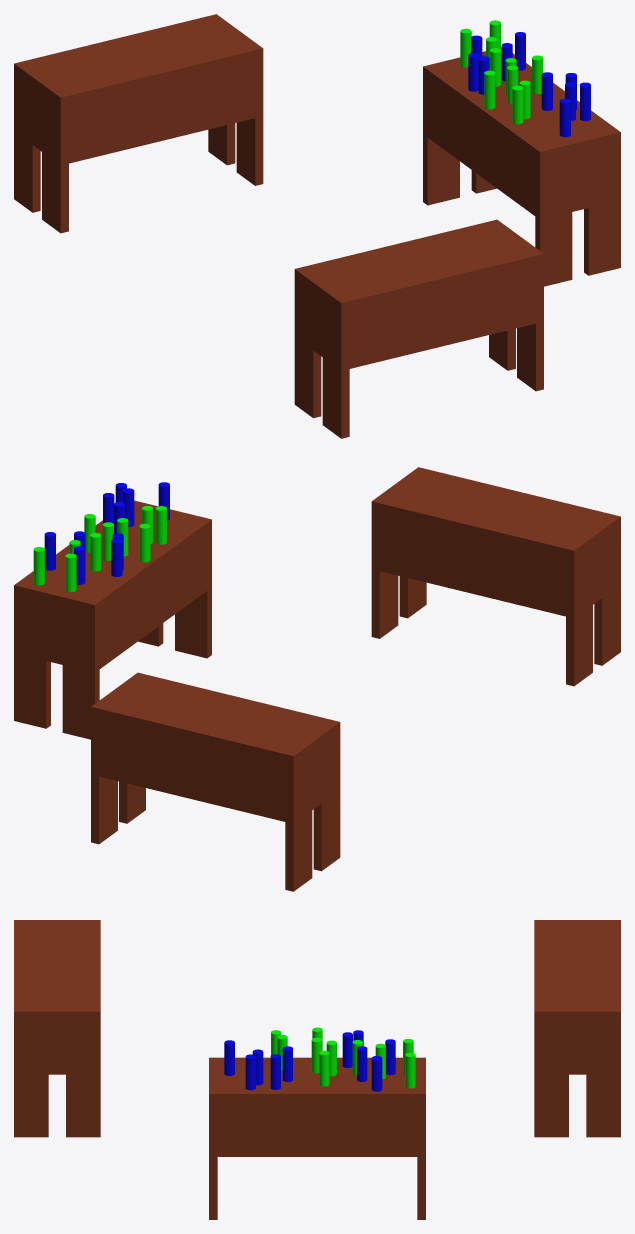
Rendered from sort_clutter_20.dae.
The picture shows the model from 3 angles, top to bottom: view 1: azimuth 30°, elevation 25°; view 2: azimuth 150°, elevation 25°; view 3: azimuth 270°, elevation 25°; orthographic projection. The views are drawn at different scales.
Visible parts, largest first — view 1: base (×14); view 2: base (×14); view 3: base (×10).
Boxes of the visible parts, x1,y1,x2,y2 form: base (×14): (14,14,620,438); base (×14): (14,467,620,891); base (×10): (14,920,620,1219).
Size of the model in its own units: 2.38 by 3.5 by 1.
